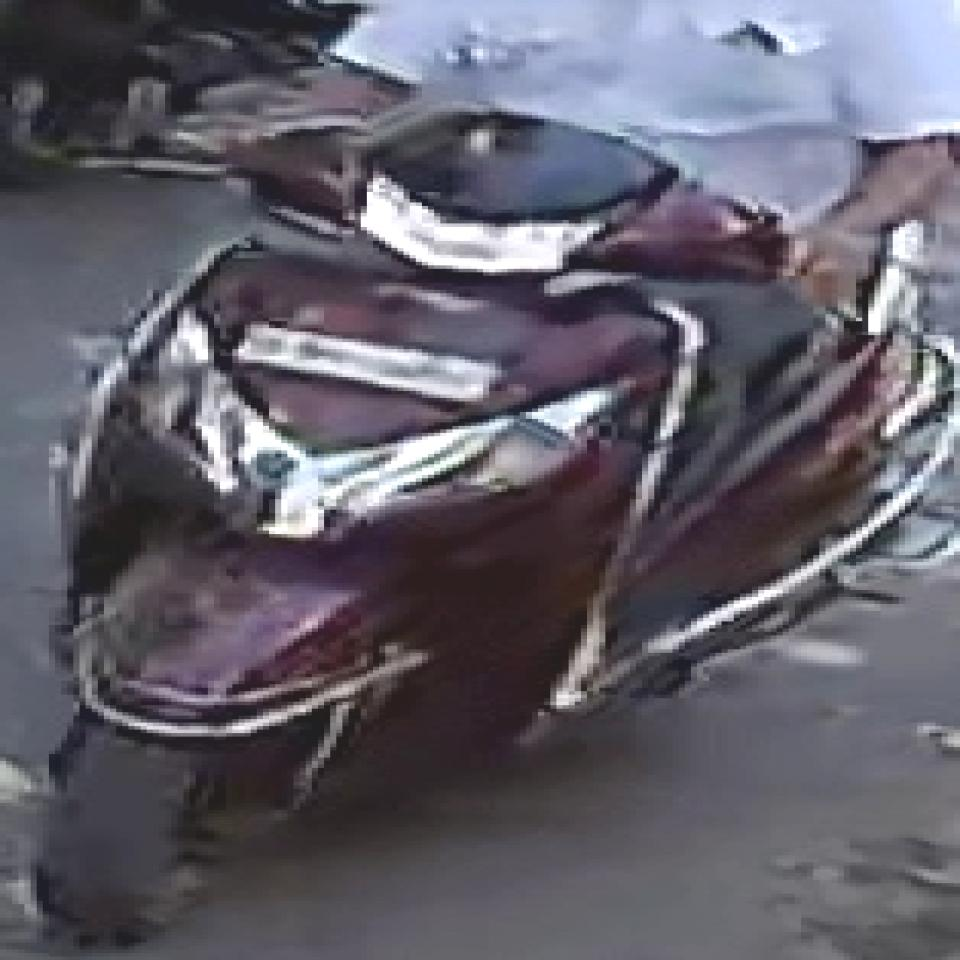head_light: (352, 160, 622, 277)
